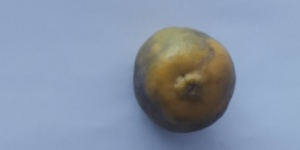BAD: (132, 24, 239, 134)
